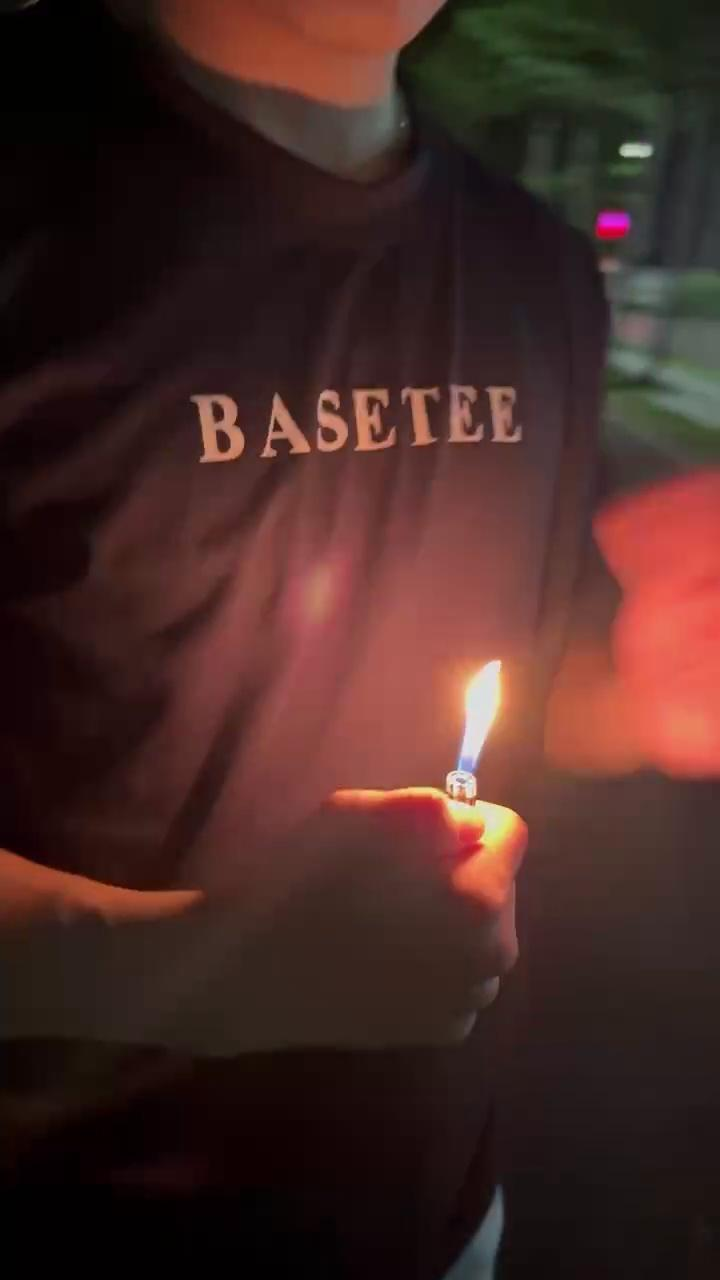Fire: (440, 648, 525, 792)
